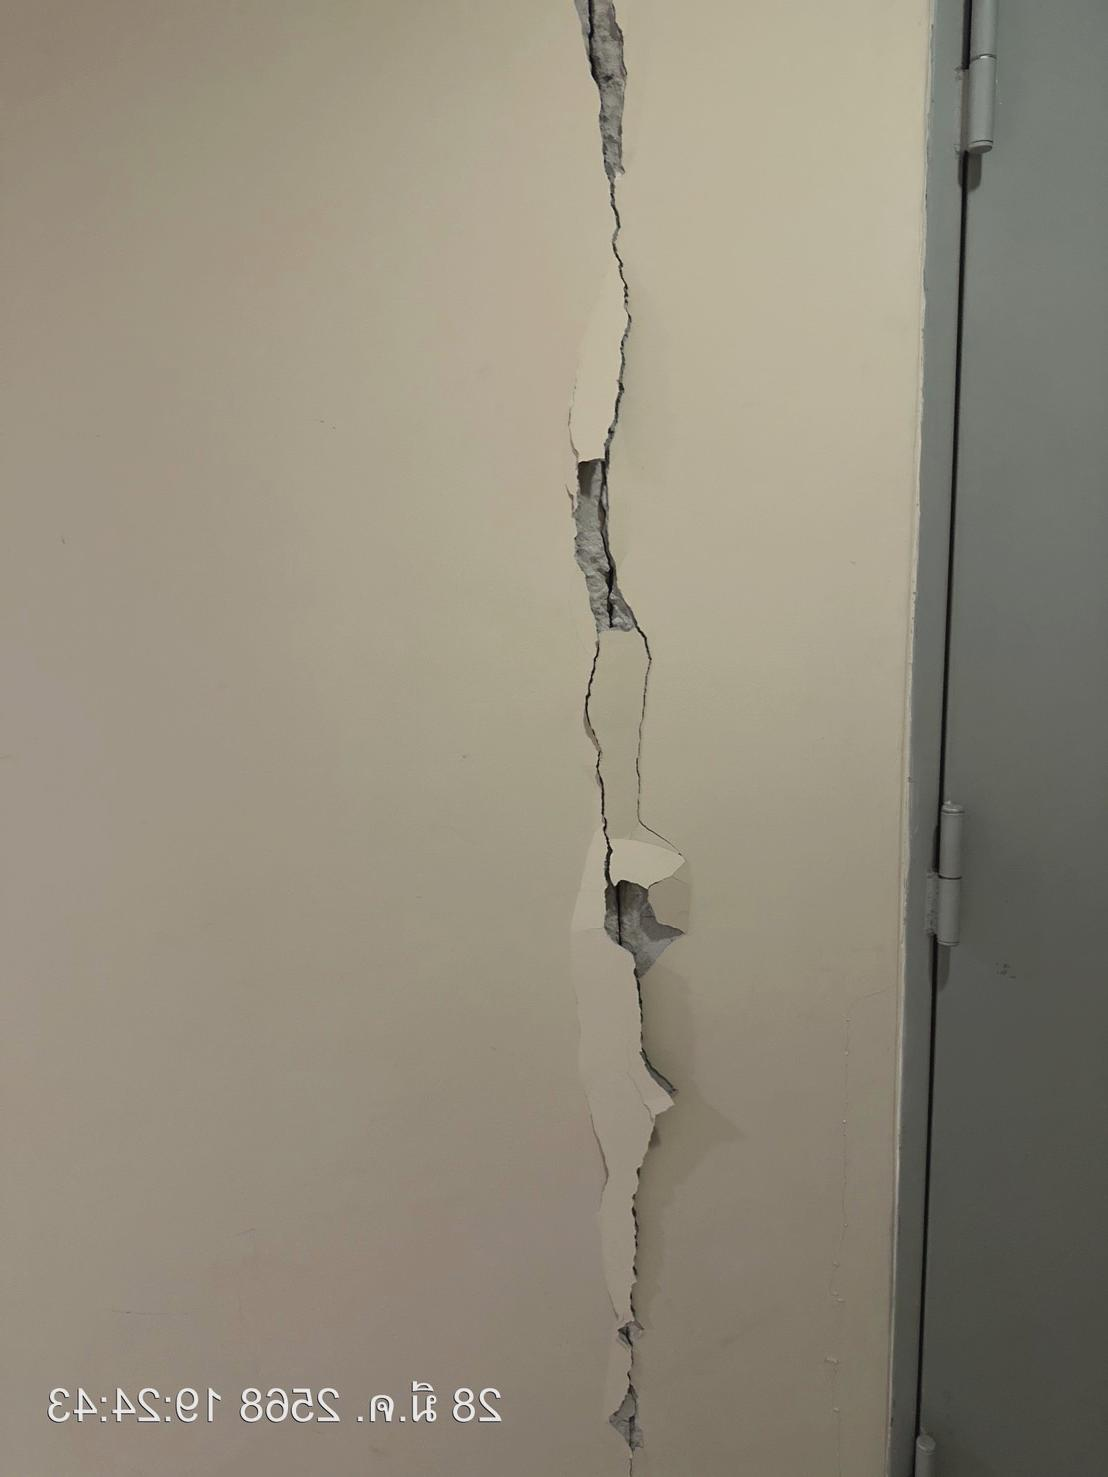High: (499, 3, 751, 1477)
